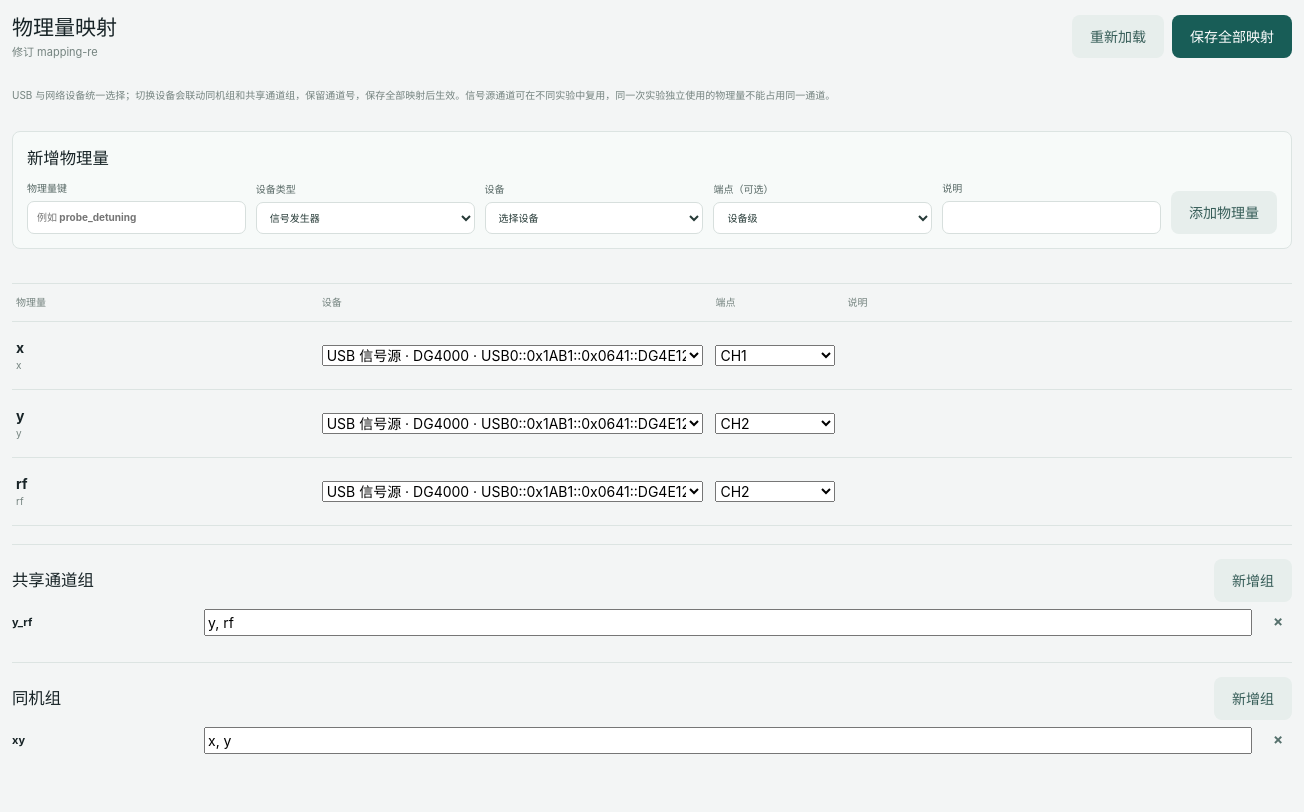
it: 物理量设备成组切换 › 沿重叠的同机组和共享组联动整组，保留通道并一次保存
This screenshot has width=1304, height=812.
Select "网络信号源 · DG900 · TCPIP0::192.168.124.31::INSTR · DG9Q321" in the dropdown named "x 设备" at coordinates (513, 355), box x1=322 y1=345 x2=704 y2=366
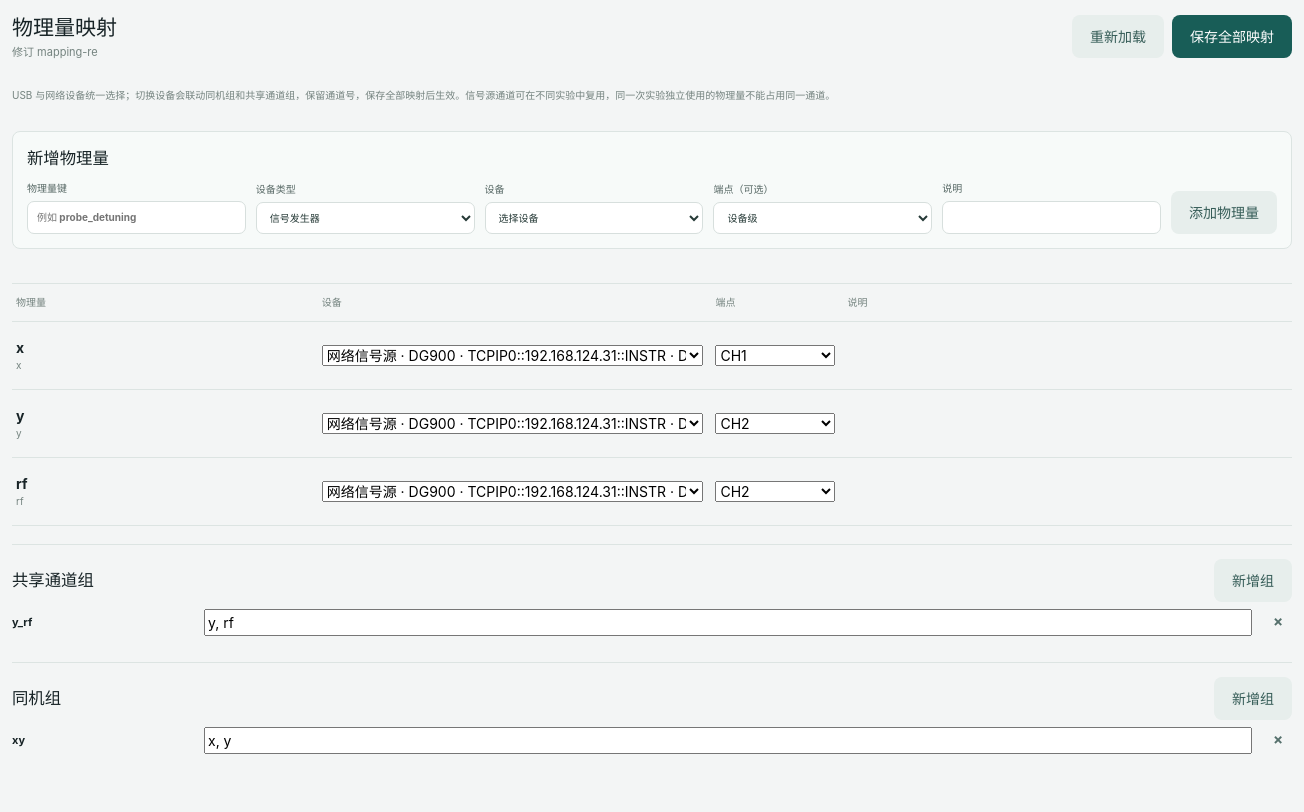
Check: the dropdown named "x 端点" shows "CH1", box x1=716 y1=345 x2=836 y2=366
Check: the dropdown named "y 端点" shows "CH2", box x1=716 y1=413 x2=836 y2=434
Click the button "保存全部映射".
click(1232, 36)  # box x1=1172 y1=14 x2=1292 y2=58
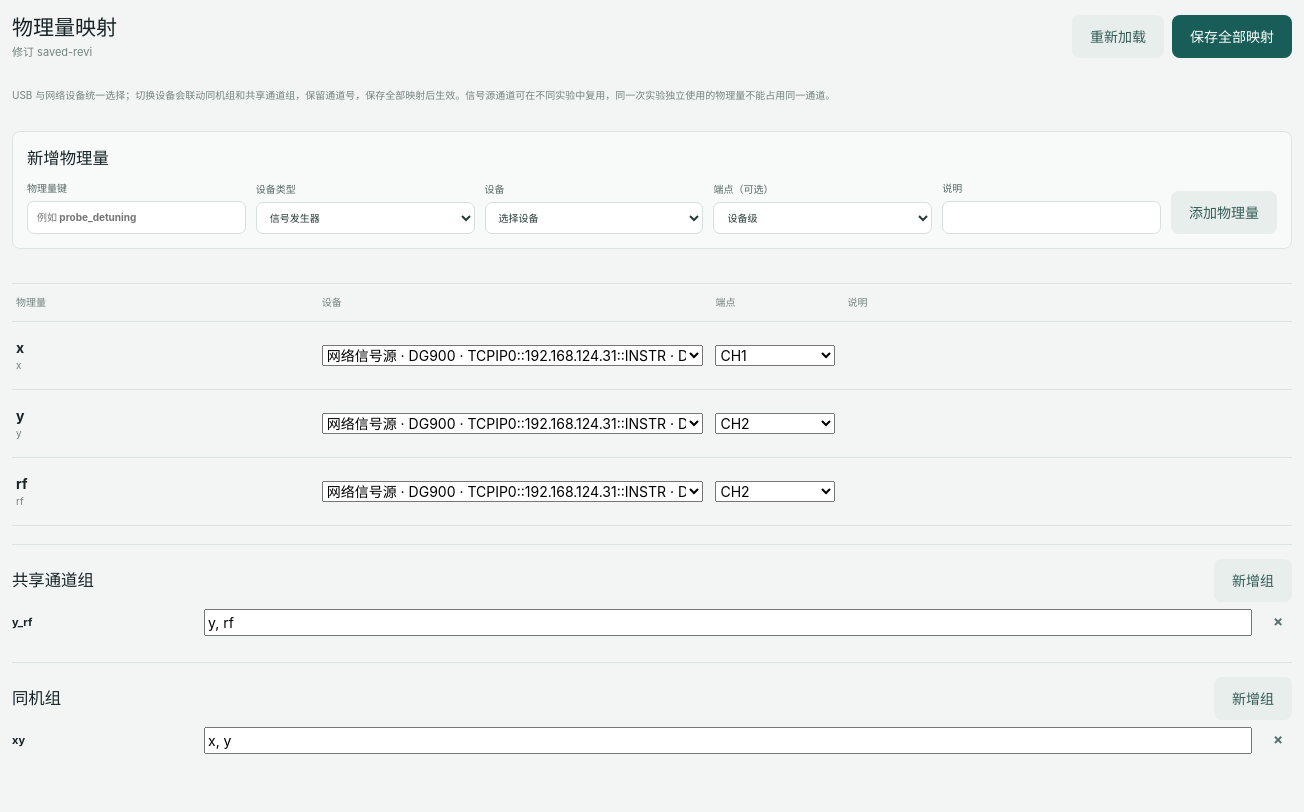
Check: the text "修订 saved-revi" is shown, box x1=12 y1=44 x2=92 y2=58
